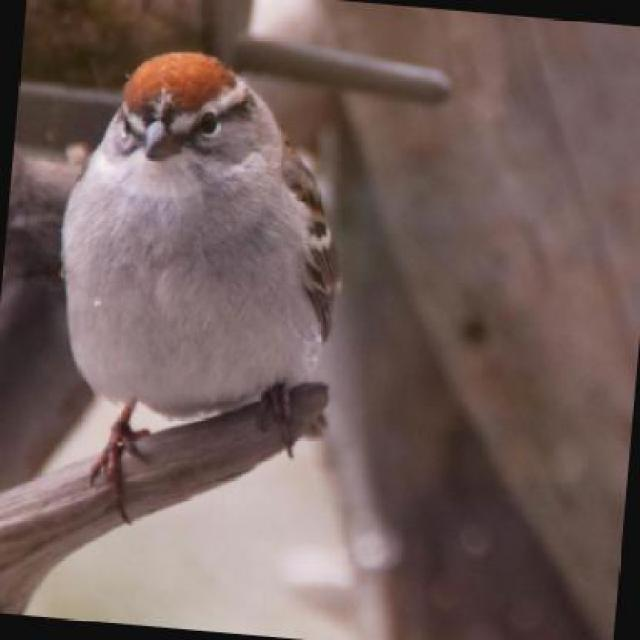Bird: (50, 49, 366, 492)
